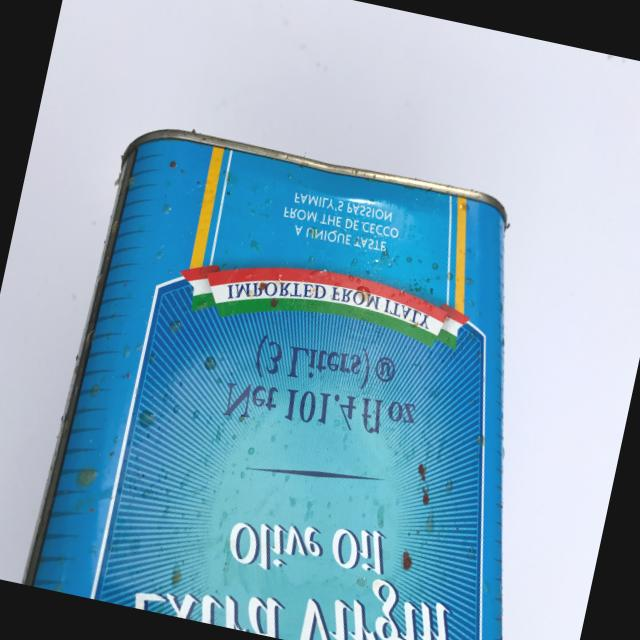Metal: (0, 43, 627, 640)
